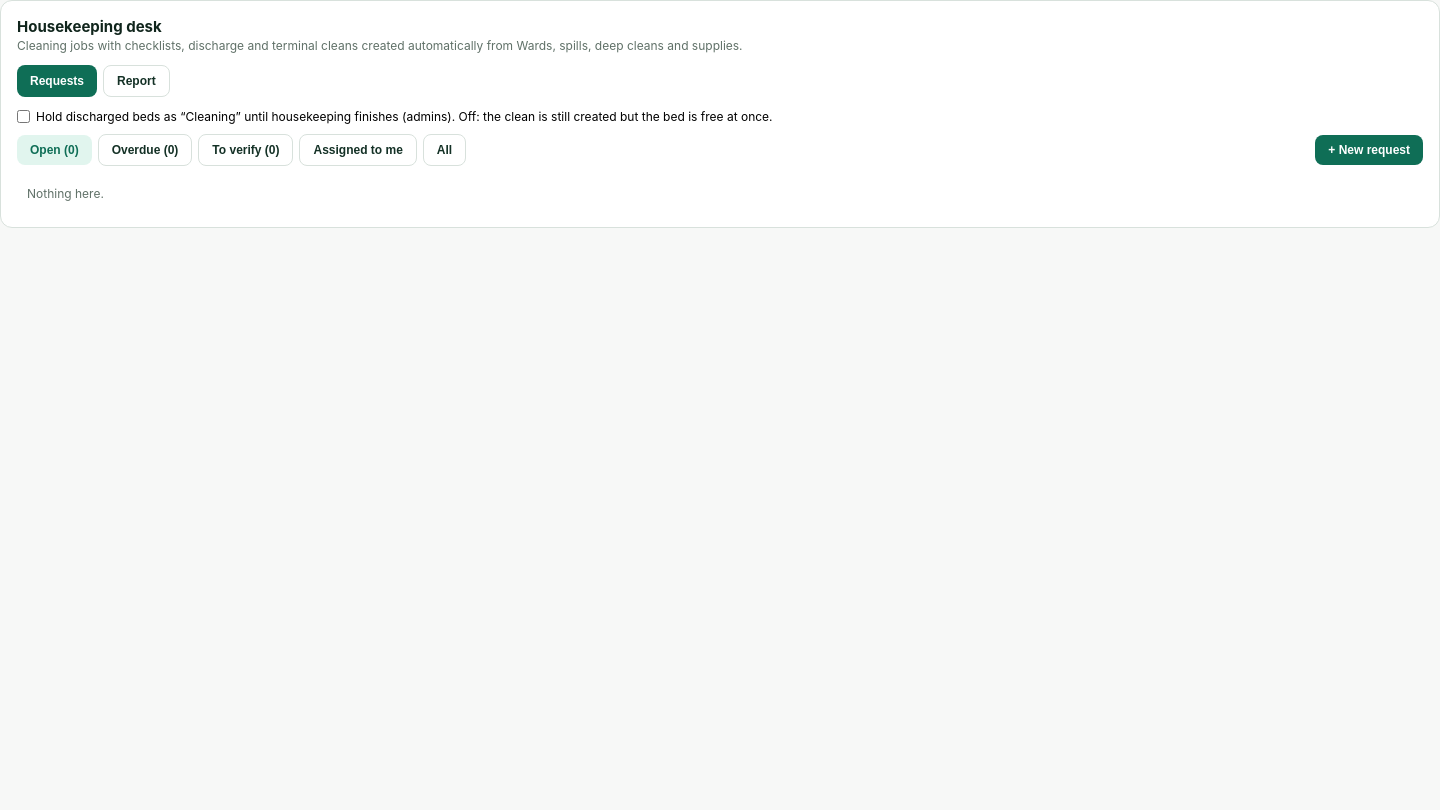
it: support desk › creates a cleaning job with its checklist, then refuses "done" until the checklist is ticked
Click the button "+ New request": coordinates (1369, 150) [1315,135,1423,165]
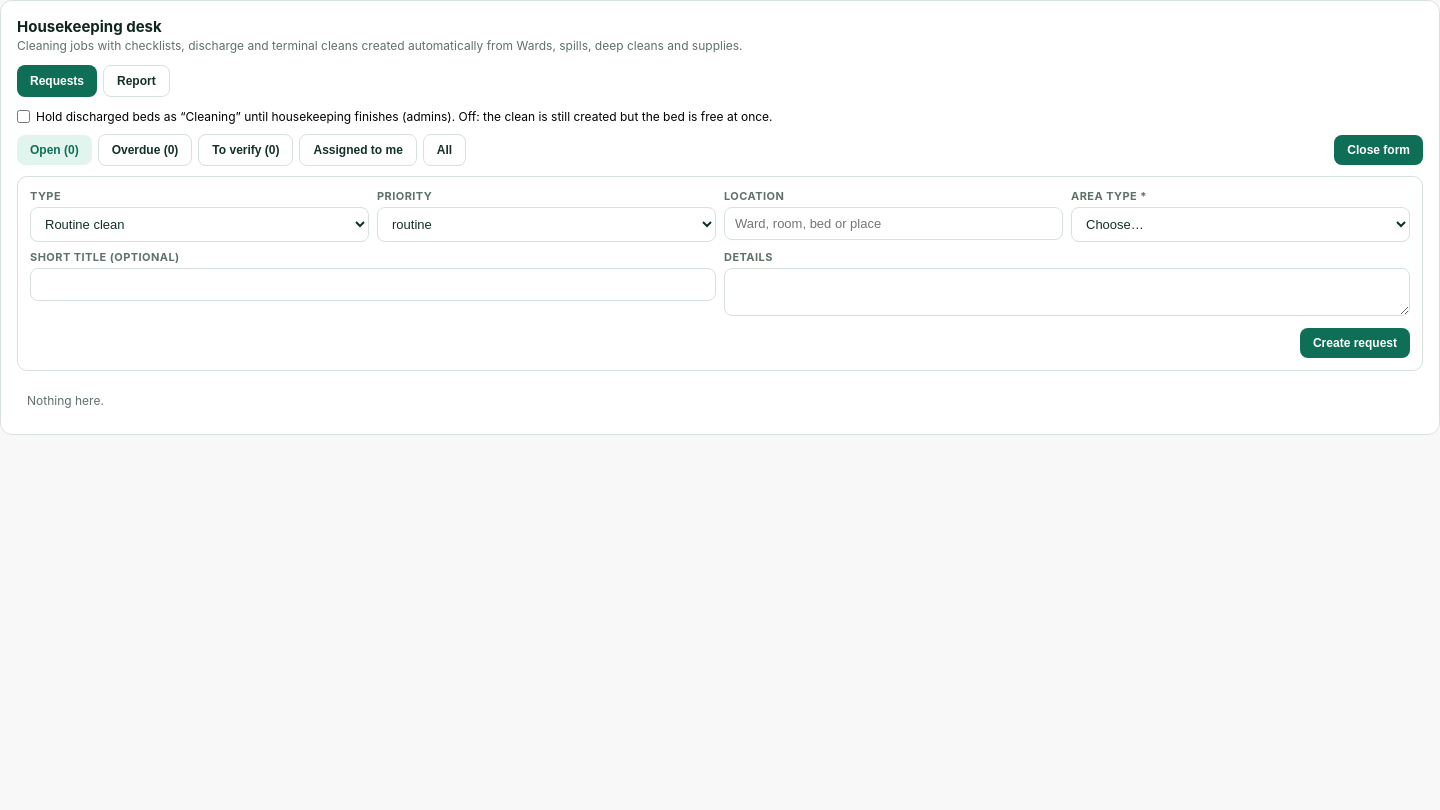
Select "Toilets / bathrooms" in the dropdown labelled "Area type *": coordinates (1240, 224) [1071,207,1410,242]
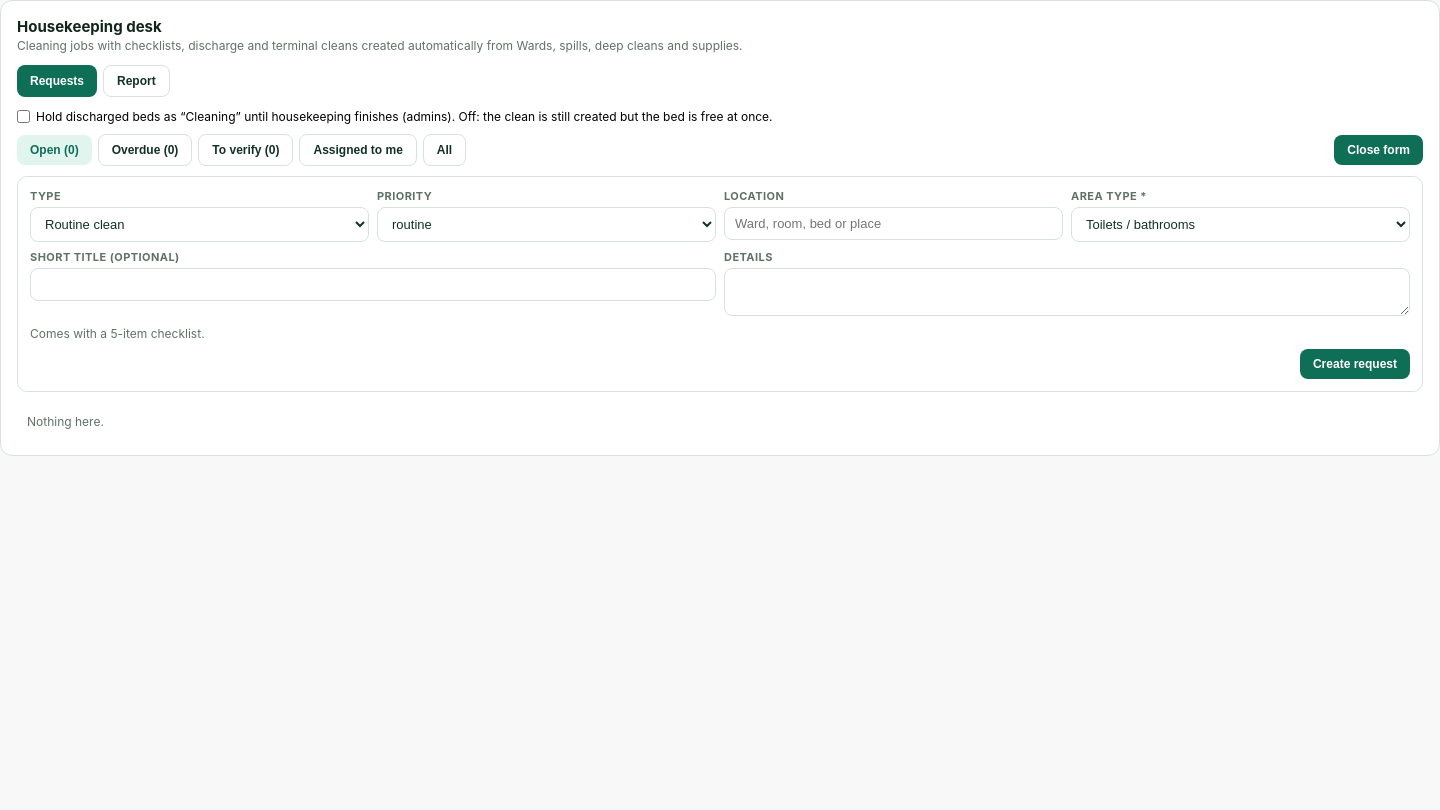
In the field labelled "Location": coordinates (894, 224) [724,207,1063,240], type "Ward 3 toilets"
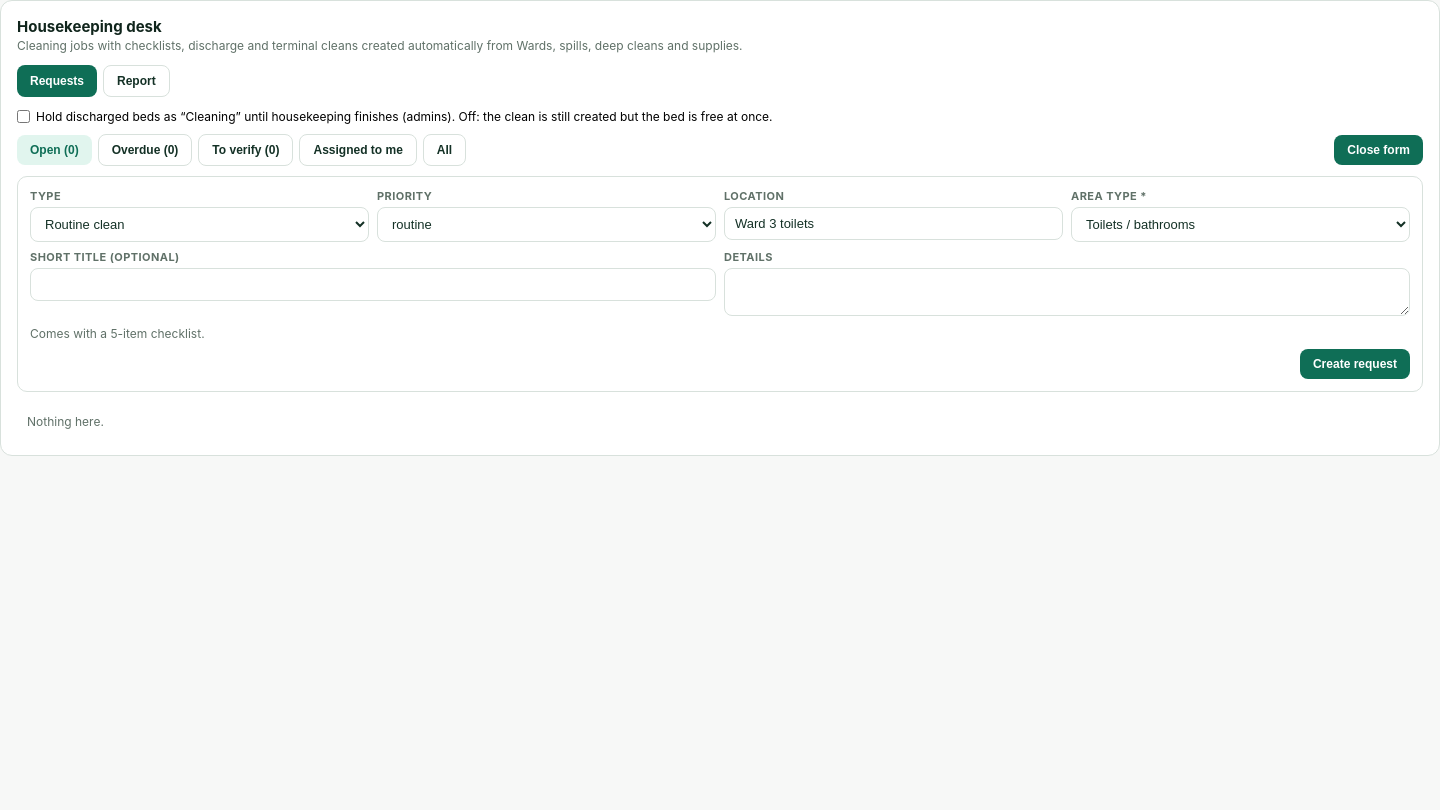
Click the button "Create request": coordinates (1355, 364) [1300,349,1410,379]
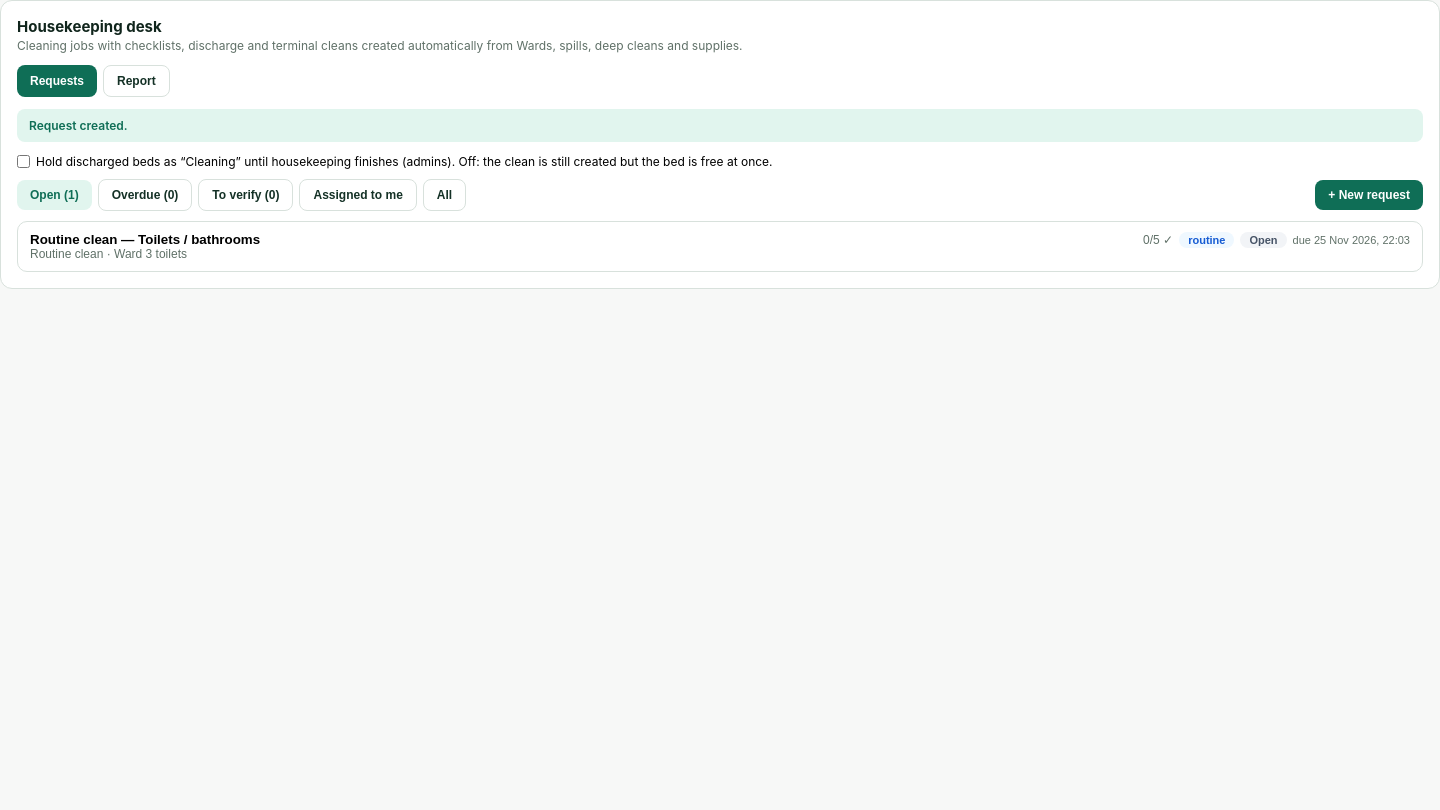
Click the text "Routine clean — Toilets / bathrooms": coordinates (145, 240) [30,232,260,247]
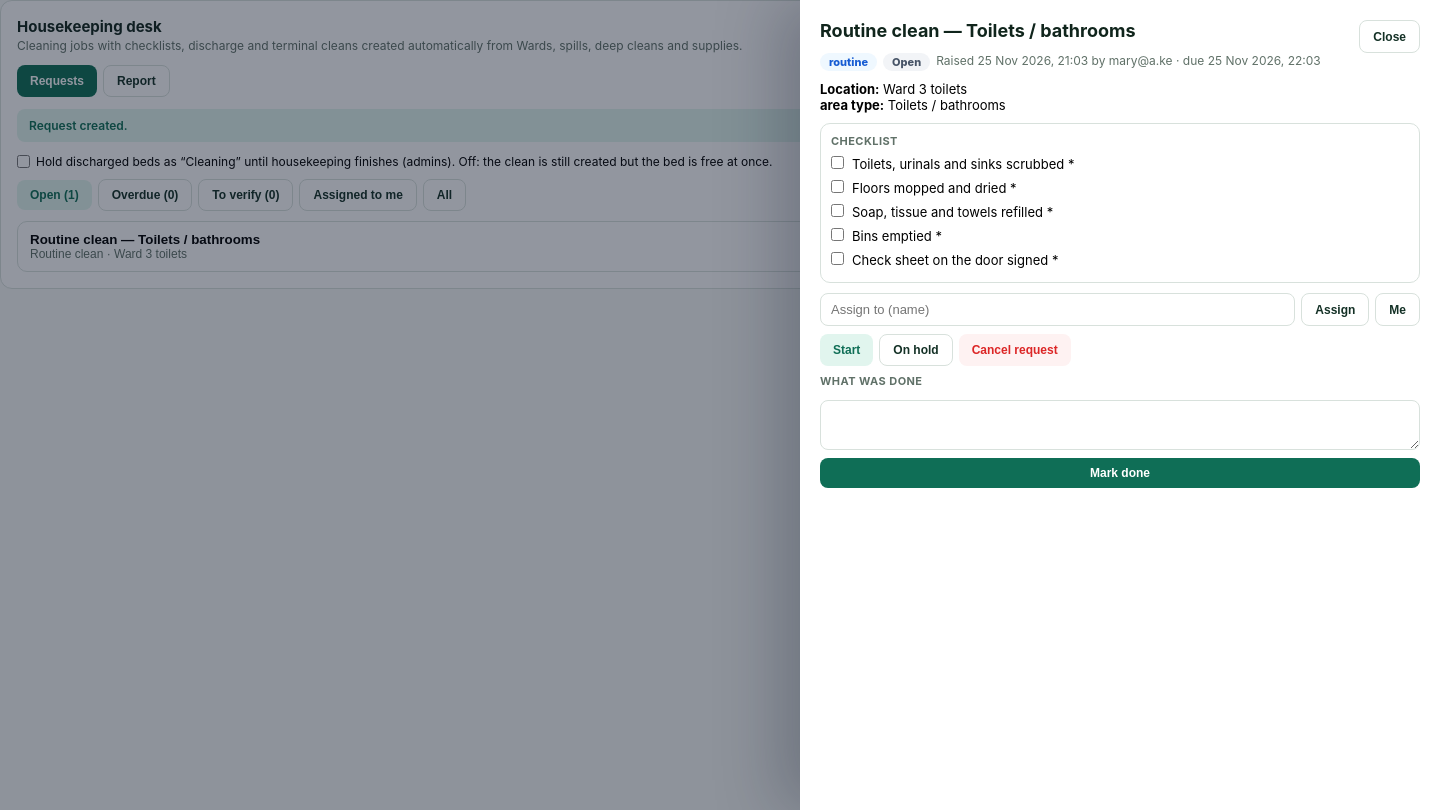
Click the button "Mark done": coordinates (1120, 473) [820,458,1420,488]
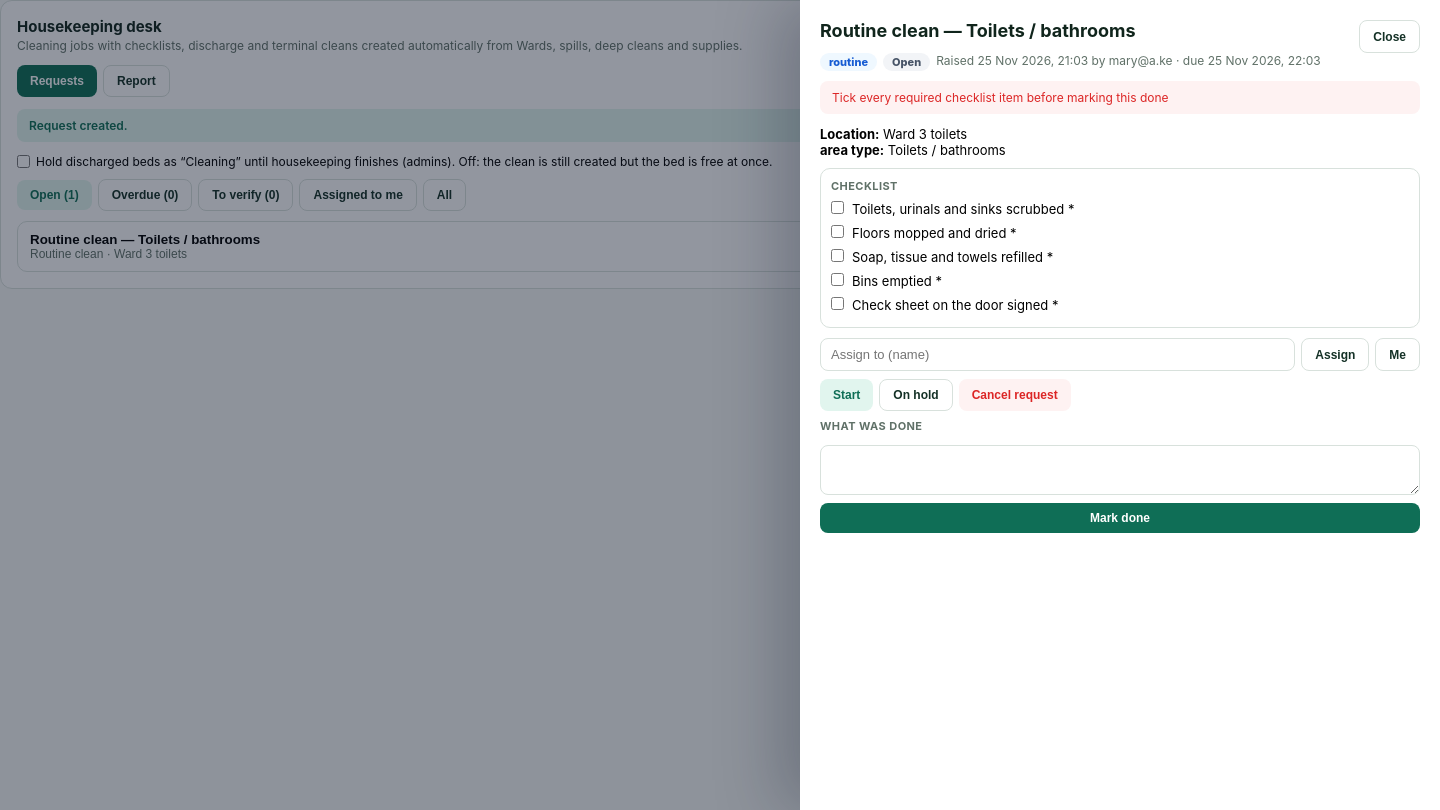
Expected: the text "Tick every required checklist item before marking this done" is shown, [820,81,1420,114]
